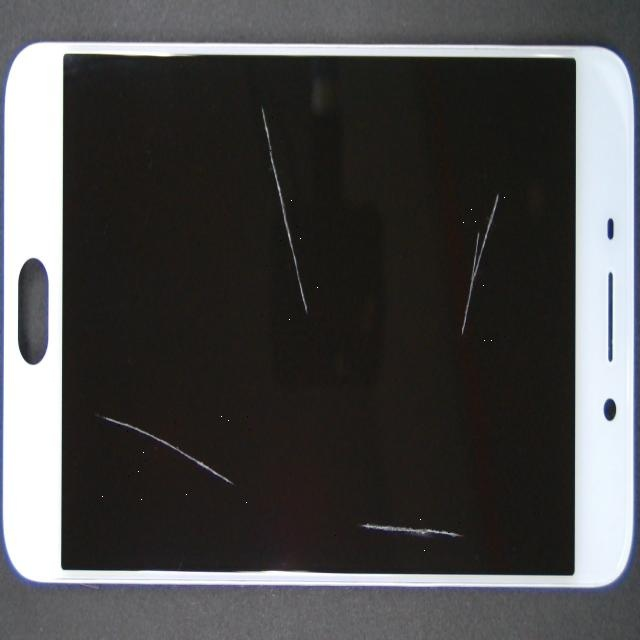scratch: (233, 184, 640, 551), (200, 244, 526, 640), (0, 182, 215, 640), (128, 16, 388, 174)
